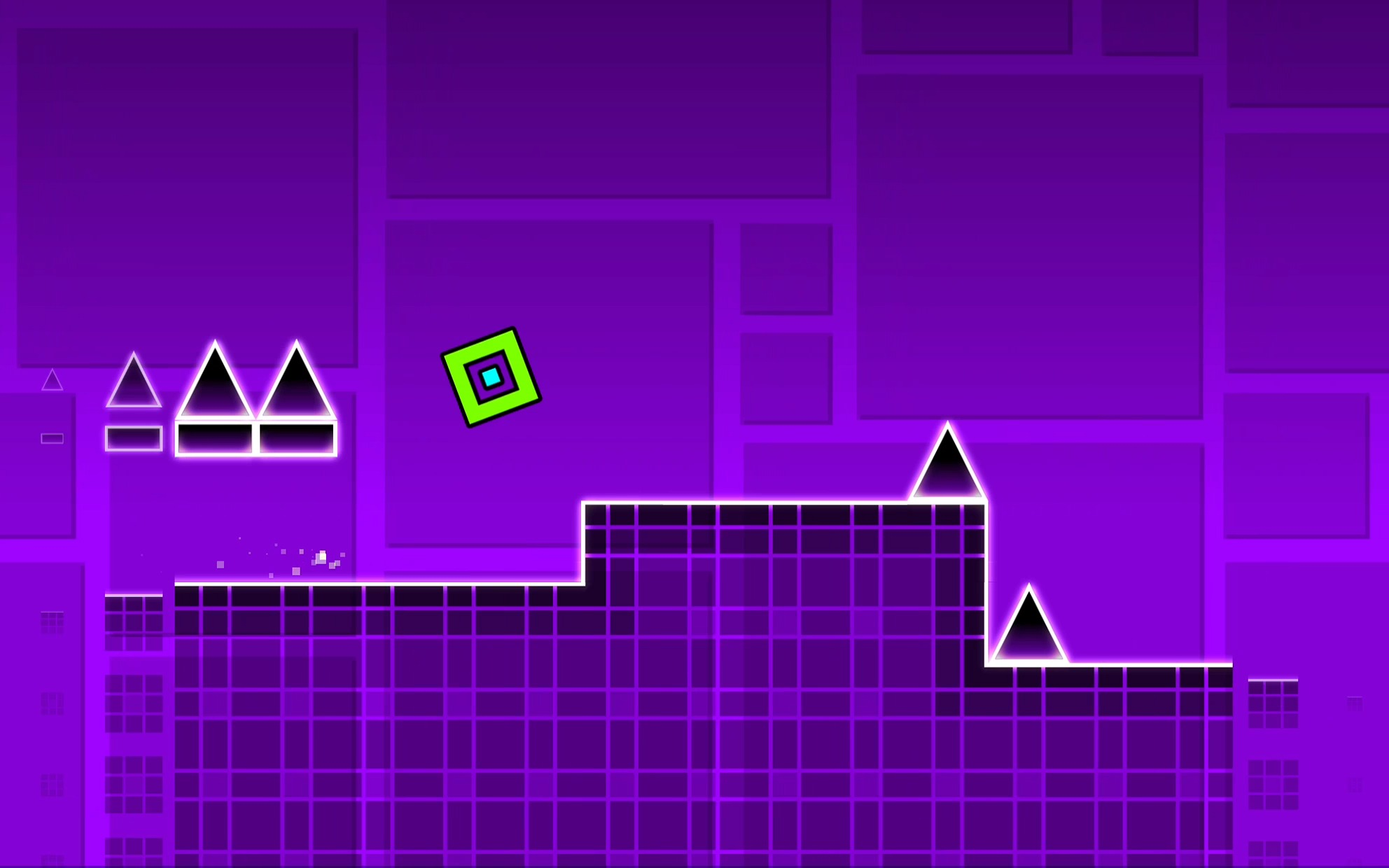Block2: (587, 501, 980, 857), (95, 586, 584, 868), (979, 671, 1308, 863)
Block3: (175, 421, 255, 456), (105, 426, 162, 452)
Player: (441, 328, 541, 426)
Spike: (176, 340, 253, 442), (908, 422, 988, 502), (989, 584, 1066, 663), (258, 341, 335, 418), (106, 351, 160, 407)
